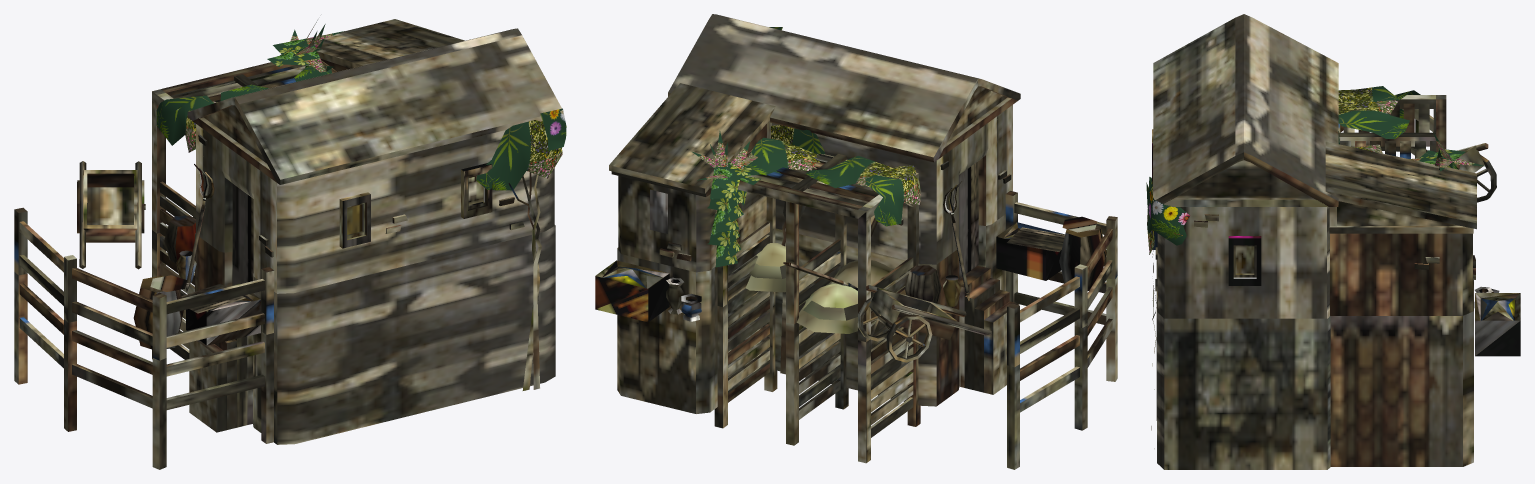
Rendered from farmstead.glb.
The picture shows the model from 3 angles, left to right: view 1: azimuth 30°, elevation 25°; view 2: azimuth 150°, elevation 25°; view 3: azimuth 270°, elevation 25°; orthographic projection. The views are drawn at different scales.
Visible parts, largest first — view 1: farmstead; view 2: farmstead; view 3: farmstead.
Part boxes in pixels (x1,y1,x2,y2): farmstead: (14, 19, 566, 469); farmstead: (595, 14, 1117, 469); farmstead: (1146, 14, 1520, 469).
Bounding box in the file's own units: 3.2 × 2.42 × 2.41.
Materials: 4 (4 with a texture image).
